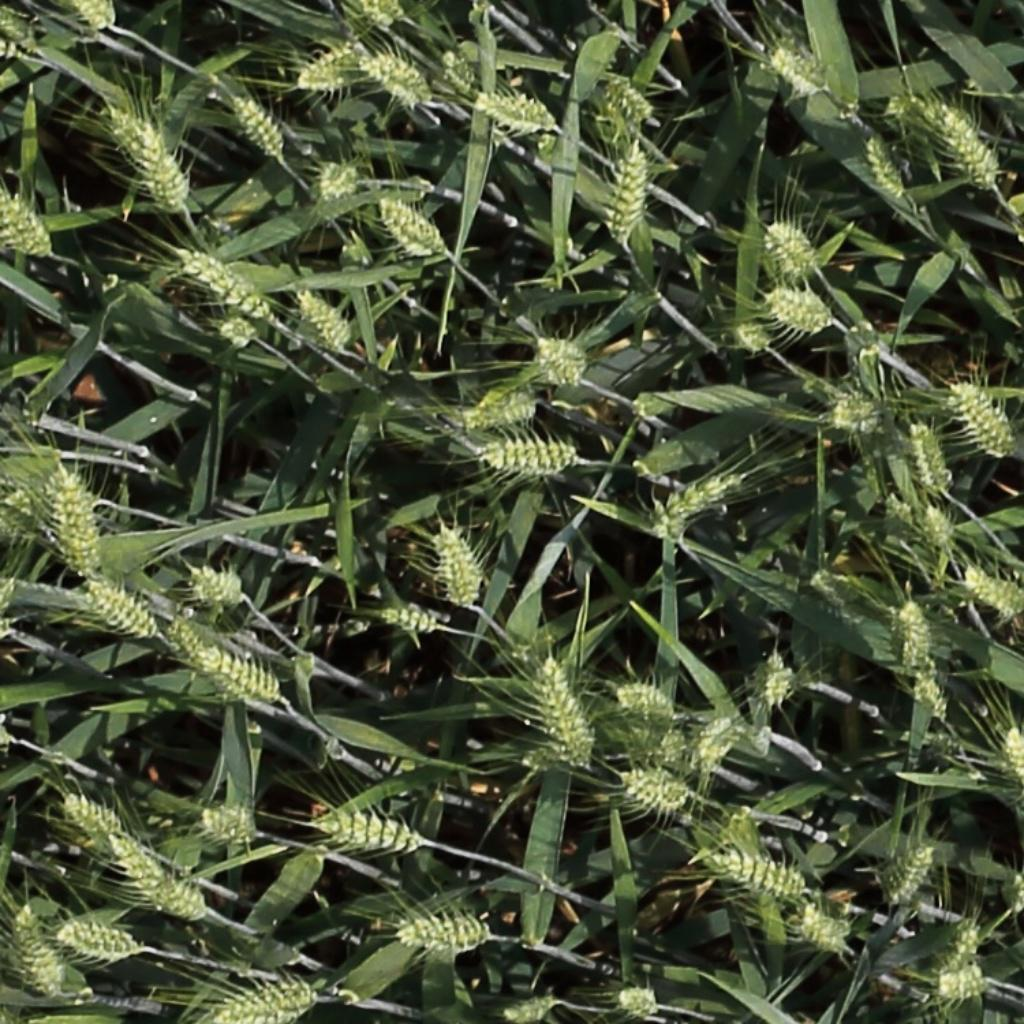0-0: (105, 95, 188, 212), (912, 91, 998, 188), (109, 834, 204, 921), (46, 469, 119, 578), (176, 245, 274, 319), (539, 653, 594, 771), (195, 981, 327, 1024), (948, 379, 1017, 460), (705, 844, 811, 896), (653, 474, 748, 531), (313, 806, 423, 855), (12, 899, 64, 1000), (378, 196, 456, 262), (295, 34, 376, 93), (600, 131, 645, 236), (865, 129, 927, 205), (617, 762, 699, 819), (228, 88, 289, 162), (903, 638, 953, 727), (86, 581, 158, 640), (0, 170, 51, 253), (200, 649, 283, 700), (294, 283, 353, 354), (435, 520, 479, 613), (482, 435, 579, 476), (883, 843, 940, 912), (167, 620, 228, 684), (477, 92, 565, 135), (391, 916, 485, 955), (768, 288, 834, 340), (691, 718, 749, 777), (800, 907, 864, 960), (986, 708, 1024, 797), (359, 54, 434, 99), (909, 416, 951, 496), (942, 915, 989, 983), (55, 925, 145, 960), (765, 219, 820, 275), (0, 476, 50, 535), (963, 567, 1024, 615), (611, 679, 676, 723), (62, 797, 125, 841), (616, 724, 688, 762), (536, 338, 587, 390), (606, 72, 655, 126), (771, 50, 831, 92), (901, 596, 932, 677), (462, 397, 537, 428), (921, 496, 958, 555), (202, 806, 255, 847), (932, 969, 993, 1004), (316, 157, 361, 204), (439, 45, 481, 95), (0, 14, 39, 63), (764, 651, 794, 714), (732, 312, 773, 358), (188, 569, 243, 602), (505, 995, 559, 1022), (832, 398, 874, 431), (617, 989, 660, 1017), (382, 611, 442, 630), (81, 1, 118, 28), (363, 0, 402, 25)
